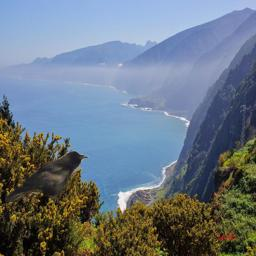Crow: (5, 150, 89, 202)
